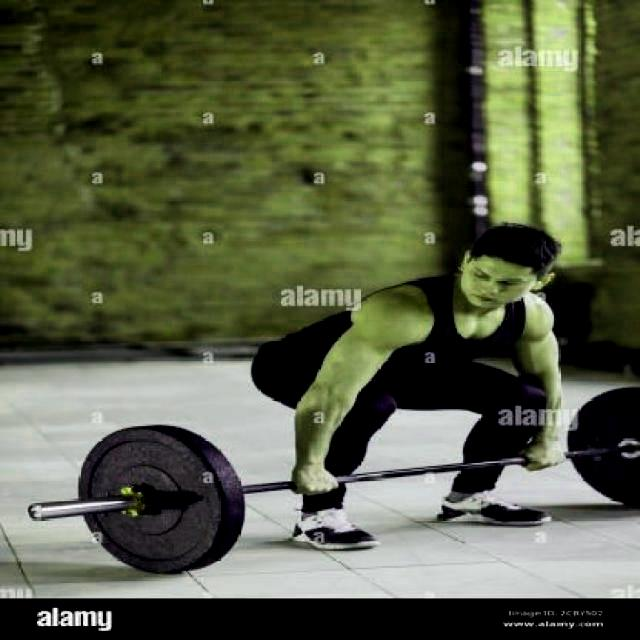barbell: (73, 417, 248, 577)
